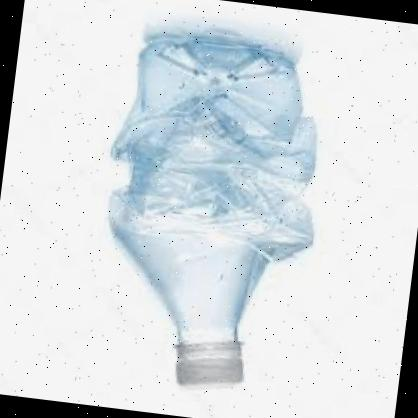bottle: (82, 25, 338, 408)
cap: (167, 334, 250, 398)
